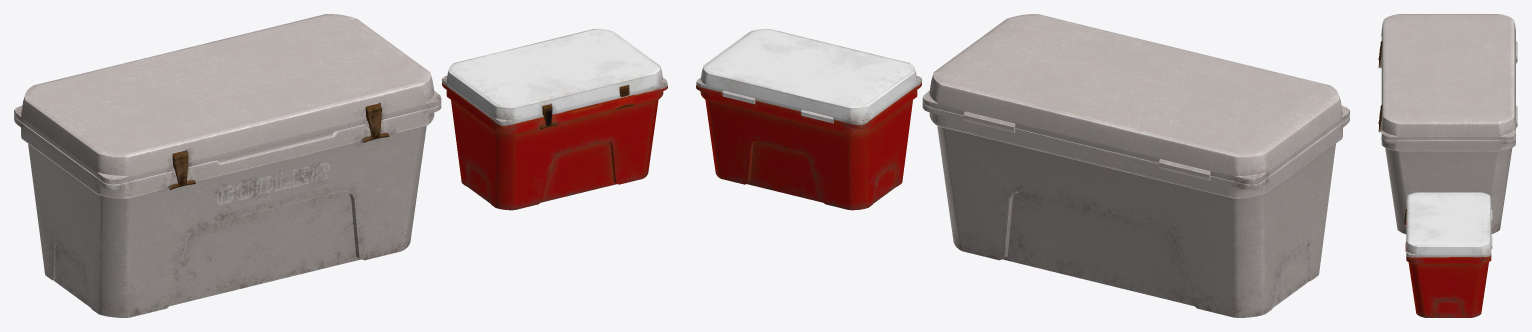
Rendered from coolers.glb.
3 views of the same model, side by side, from view 1: azimuth 30°, elevation 25°; view 2: azimuth 150°, elevation 25°; view 3: azimuth 270°, elevation 25° (orthographic). The views are drawn at different scales.
Visible parts, largest first — view 1: dock; view 2: dock; view 3: dock.
Boxes of the visible parts, bbox=[...] form: dock: bbox=[14, 14, 667, 317]; dock: bbox=[696, 14, 1349, 317]; dock: bbox=[1378, 14, 1517, 317].
Bounding box in the file's own units: 1.35 × 0.3826 × 0.4131.
Materials: 2 (2 with a texture image).
